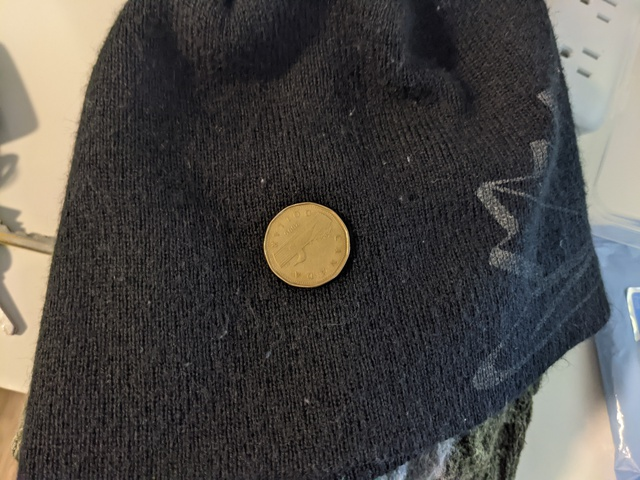loonie: (261, 190, 356, 285)
